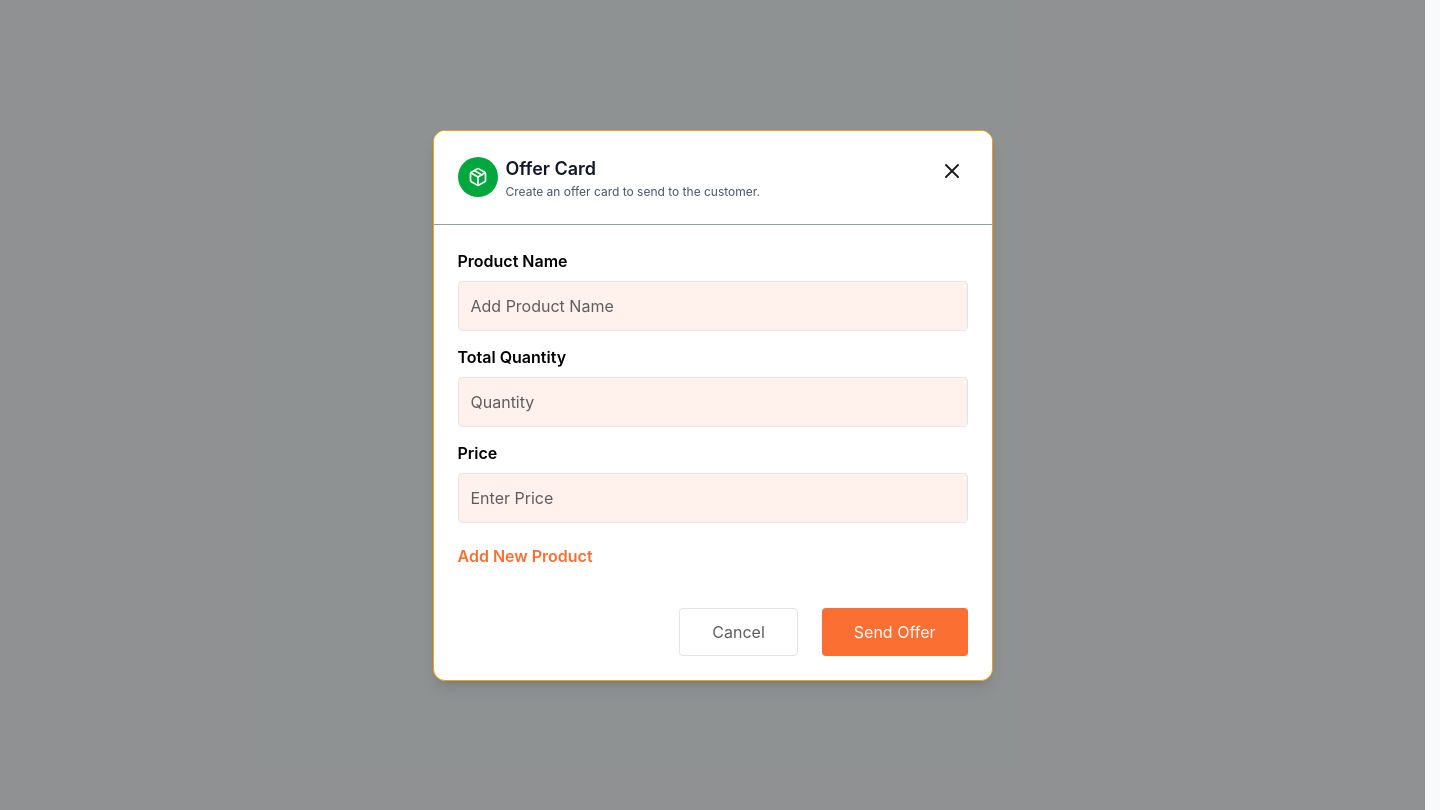
Scenario: BookingsCreateOfferModal › shows inline validation errors and does not send an empty offer
What coordinates should you click on to do the following:
click the button "Send Offer"
I would click on:
 (895, 632)
Its box is 822,608 -> 968,656.
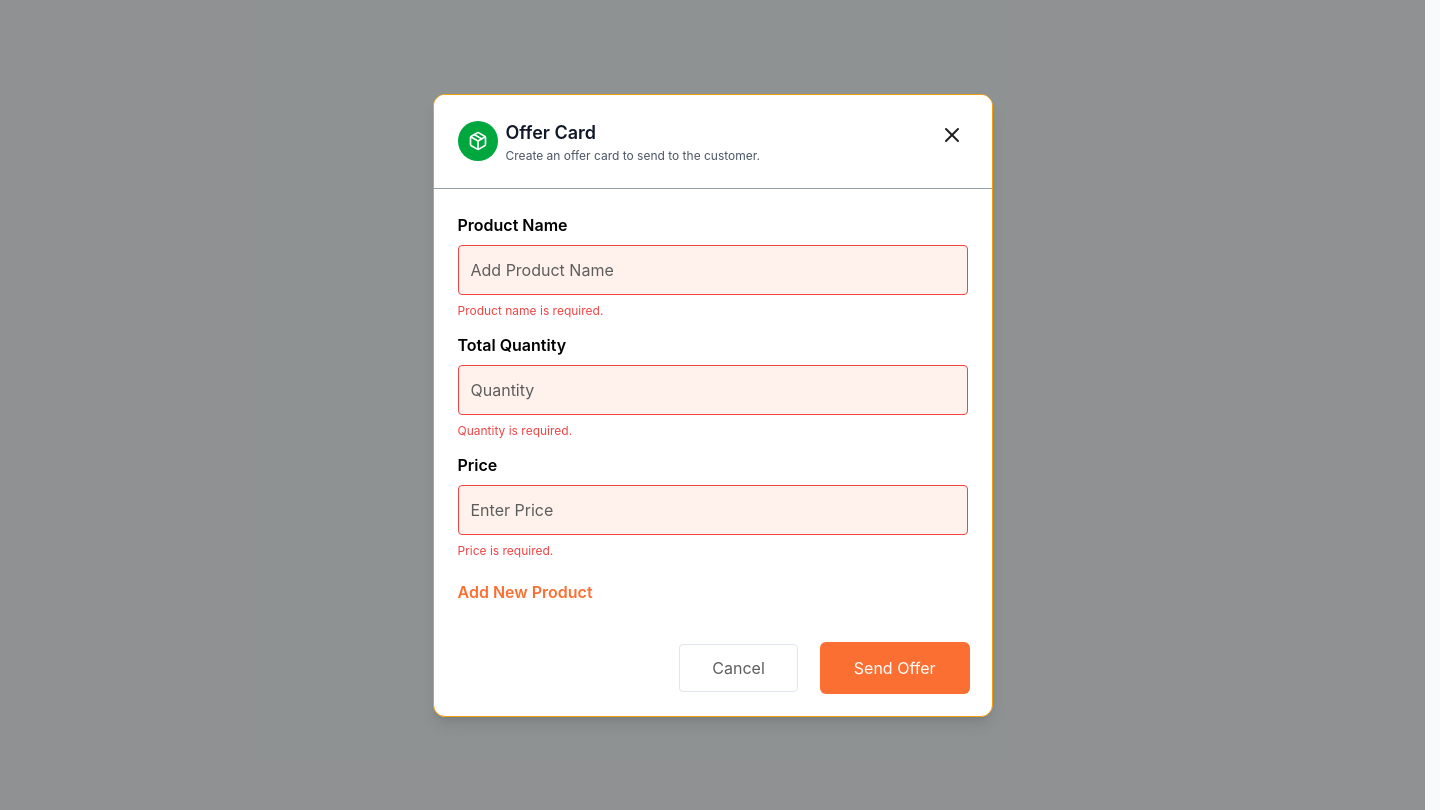
Now the text "Product name is required." is shown, box 458,302 -> 603,318
